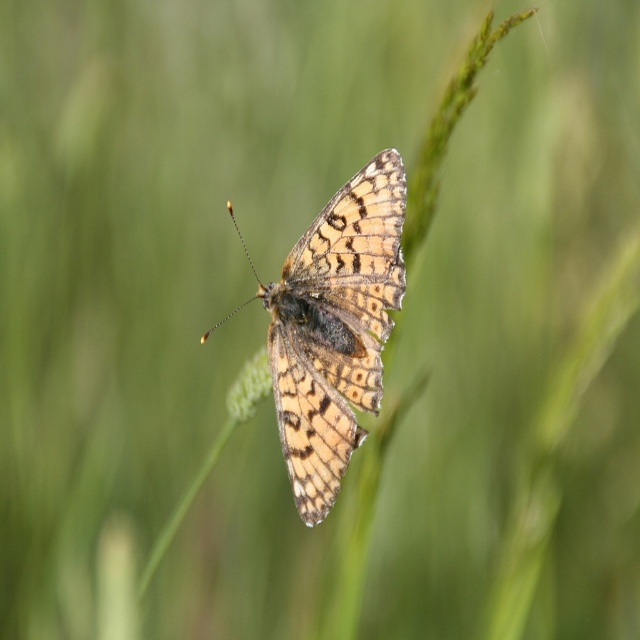Butterfly: (199, 149, 420, 525)
